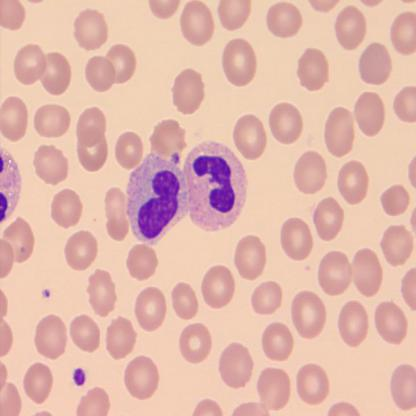Segmented neutrophil: (124, 139, 249, 249)
